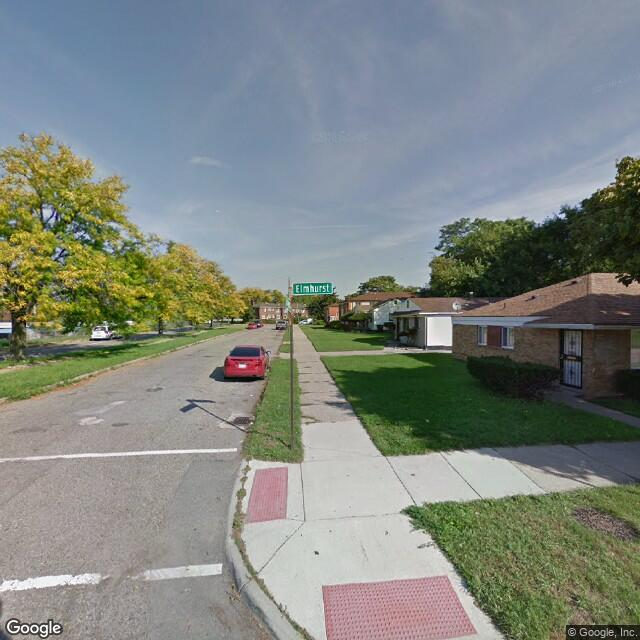litter: (249, 418, 255, 426), (424, 417, 430, 423), (248, 391, 253, 396)
